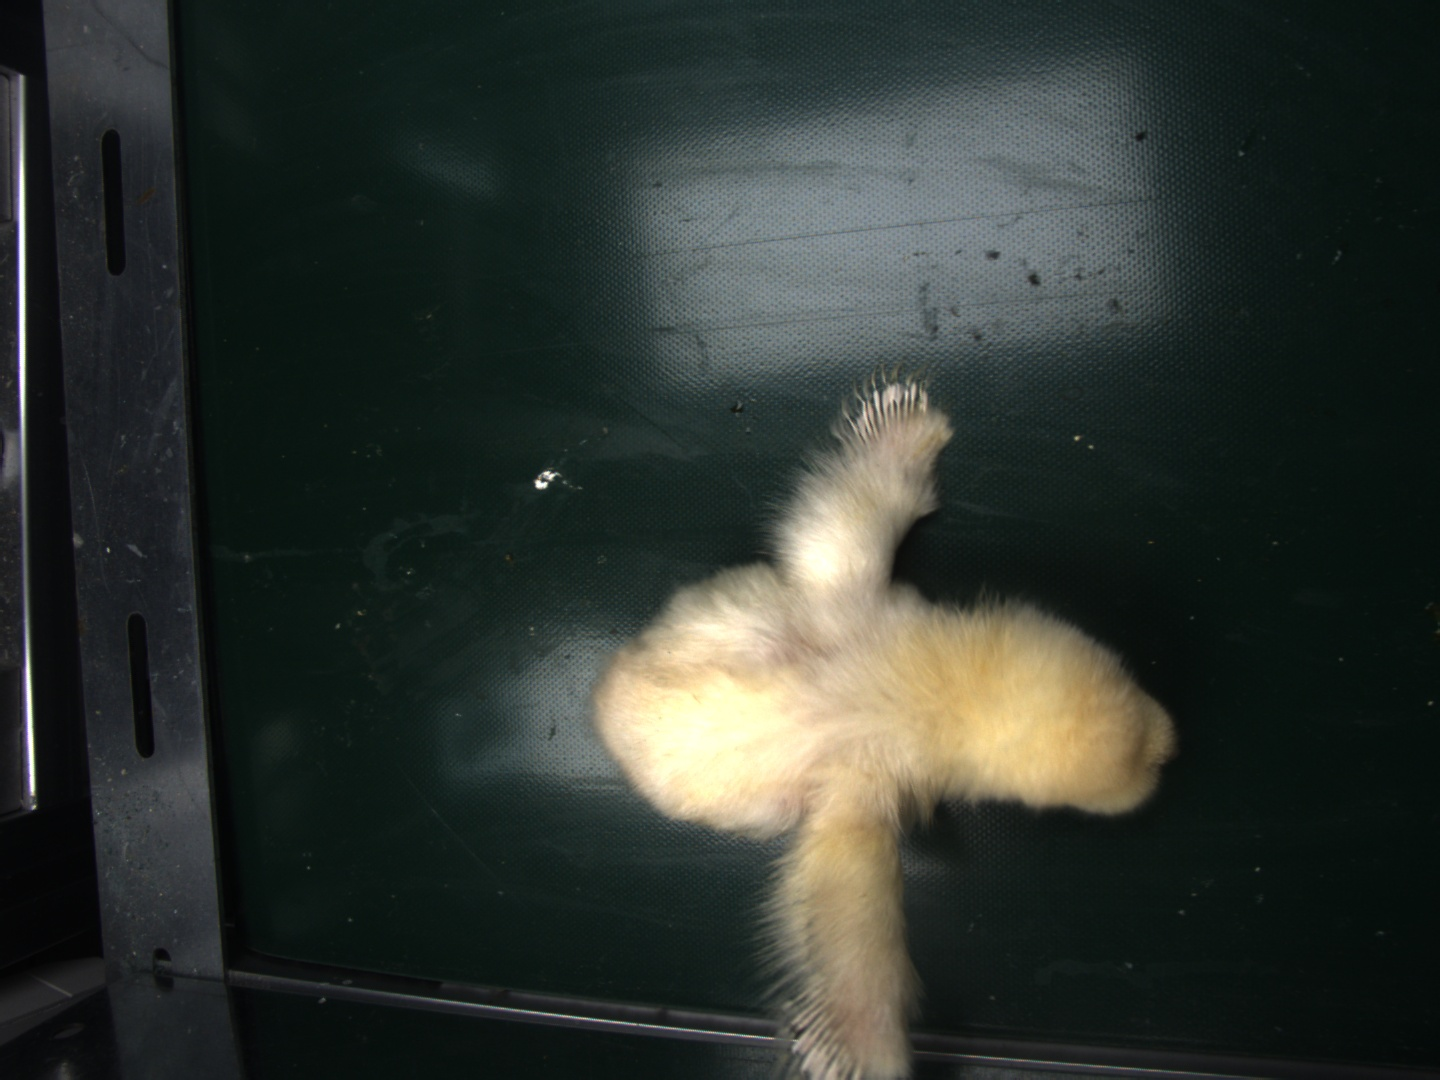male: (856, 383, 930, 447)
